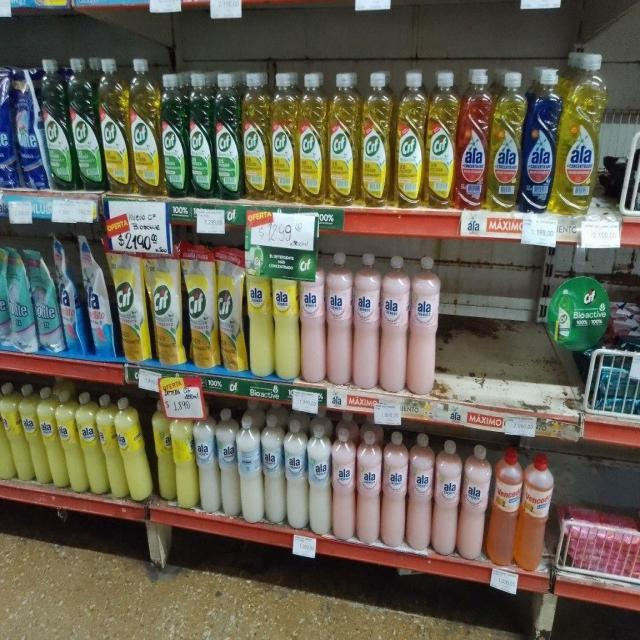ala_conc_amarillo: (558, 50, 601, 214), (490, 69, 522, 212)
ala_conc_azul: (524, 67, 558, 214)
ala_conc_rojo: (457, 67, 489, 212)
ala_crem_amarillo: (273, 260, 299, 380), (247, 255, 272, 377), (0, 382, 22, 480), (58, 388, 78, 492), (79, 391, 99, 494), (153, 400, 173, 503), (99, 393, 118, 497), (40, 386, 58, 487), (22, 383, 40, 483)
ala_crem_blanco: (308, 420, 331, 536), (238, 413, 261, 523), (262, 413, 284, 526), (285, 417, 307, 529), (196, 408, 217, 512), (218, 407, 237, 517)
ala_crem_rosado: (409, 255, 439, 397), (381, 253, 408, 394), (353, 252, 379, 391), (326, 251, 352, 387), (300, 253, 326, 385), (461, 444, 490, 560), (434, 438, 460, 556), (382, 430, 407, 548), (408, 432, 433, 550), (356, 427, 381, 545), (332, 424, 356, 539)
cif_conc_bot_amarilla: (361, 70, 393, 208), (328, 70, 359, 207), (130, 56, 160, 196), (426, 70, 456, 210), (394, 70, 424, 209), (100, 57, 129, 193), (299, 70, 327, 206), (242, 72, 270, 200), (271, 70, 297, 203)
cif_conc_botella_verde: (71, 56, 100, 192), (44, 57, 70, 191), (215, 73, 241, 200), (161, 71, 187, 198), (189, 72, 213, 199)
cif_conc_sachet_amarillo: (150, 243, 184, 366), (115, 240, 148, 362), (187, 243, 217, 369), (218, 245, 246, 373)
